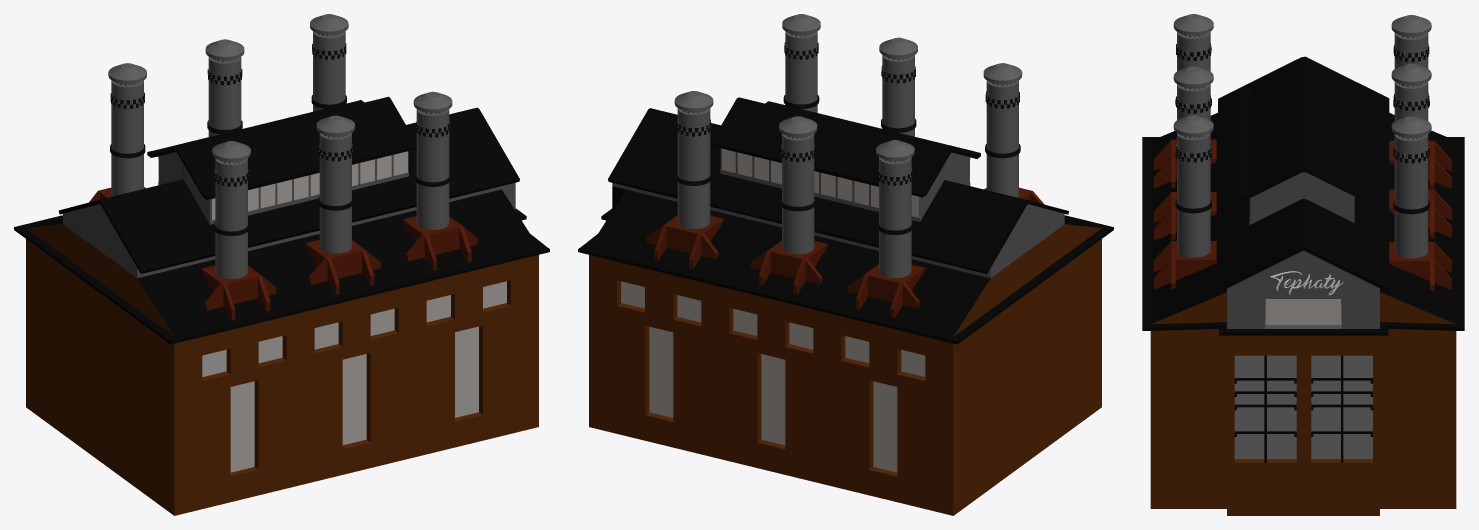
The model's file is tephaty2.fbx.
3 renders of one model, left to right at view 1: azimuth 30°, elevation 25°; view 2: azimuth 150°, elevation 25°; view 3: azimuth 270°, elevation 25°, orthographic. The views are drawn at different scales.
Visible parts, largest first — view 1: Cube.013, Cube, Cube.008, Cube.007, Cylinder, Cylinder.022, Cylinder.005, Cylinder.011, Cylinder.014, Cylinder.019, Cube.010, Cube.003 (+3 smaller); view 2: Cube.013, Cube, Cube.011, Cube.008, Cube.007, Cylinder.019, Cylinder.011, Cylinder.014, Cylinder.022, Cylinder, Cylinder.005, Cube.006 (+3 smaller); view 3: Cube.013, Cube, Cube.009, Cube.007, Cube.011, Cube.010, Cylinder.019, Cylinder, Cube.008, Cylinder.014, Cylinder.022, Cube.002 (+8 smaller).
Boxes of the visible parts, x1,y1,x2,y2 form: Cube.013: (26,224,538,515); Cube: (14,96,549,344); Cube.008: (202,151,506,472); Cube.007: (63,151,515,278); Cylinder: (413,91,452,229); Cylinder.022: (212,141,250,278); Cylinder.005: (316,115,354,253); Cylinder.011: (108,63,146,196); Cylinder.014: (205,39,244,136); Cylinder.019: (310,14,348,111); Cube.010: (267,104,392,172); Cube.003: (201,265,276,319); Cube.013: (589,224,1101,515); Cube: (578,97,1113,344); Cube.011: (625,112,1026,265); Cube.008: (621,148,925,472); Cube.007: (612,148,1064,278); Cylinder.019: (674,91,713,228); Cylinder.011: (876,140,914,277); Cylinder.014: (779,116,817,254); Cylinder.022: (983,63,1022,197); Cylinder: (782,14,820,112); Cylinder.005: (879,37,917,136); Cube.006: (750,240,827,294); Cube.013: (1150,292,1456,515); Cube: (1142,56,1464,409); Cube.009: (1234,355,1372,458); Cube.007: (1227,172,1379,328); Cube.011: (1305,57,1381,277); Cube.010: (1234,107,1372,462); Cylinder.019: (1391,116,1431,258); Cylinder: (1173,115,1213,257); Cube.008: (1265,299,1341,324); Cylinder.014: (1391,63,1431,120); Cylinder.022: (1173,14,1213,71); Cube.002: (1153,241,1216,289).
Size of the model in its own units: 5662 by 4647 by 3902.
